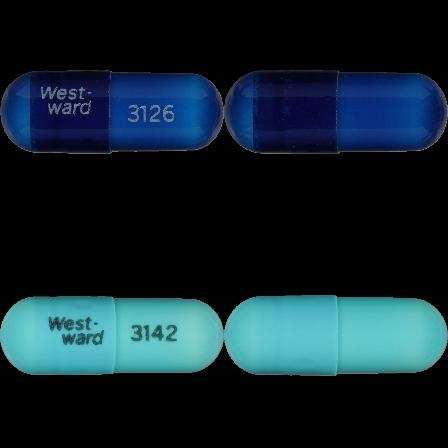0143-3126: (0, 0, 224, 224)
